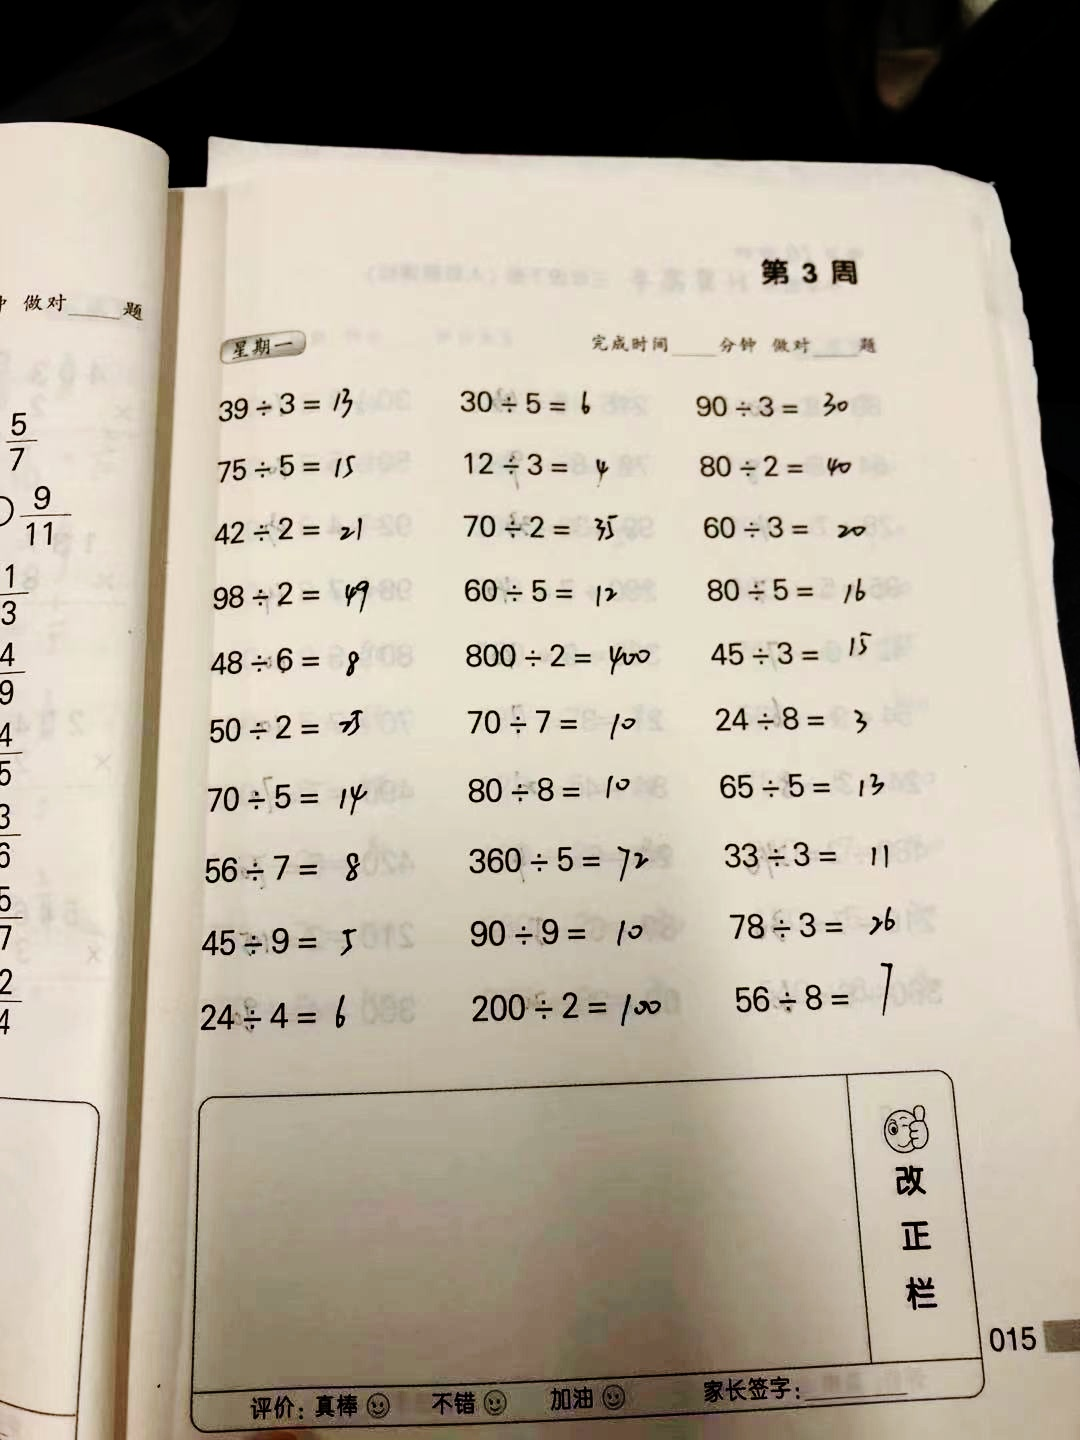equation: (711, 950, 930, 1030), (447, 752, 663, 815), (184, 838, 407, 898), (448, 833, 673, 890), (452, 981, 670, 1035), (193, 633, 394, 692), (452, 633, 673, 681), (461, 912, 667, 964), (187, 922, 388, 975), (442, 565, 657, 615), (680, 378, 881, 430), (702, 693, 904, 744), (189, 993, 379, 1045), (444, 373, 625, 427), (717, 762, 910, 813), (701, 835, 921, 879), (197, 505, 387, 556), (199, 762, 365, 818), (461, 698, 663, 744), (445, 507, 636, 554), (196, 575, 383, 621), (189, 379, 381, 424), (687, 503, 881, 548), (691, 571, 891, 613), (716, 904, 916, 945), (189, 708, 371, 752), (691, 630, 891, 670), (690, 452, 888, 490), (208, 444, 373, 488), (459, 444, 631, 482)
